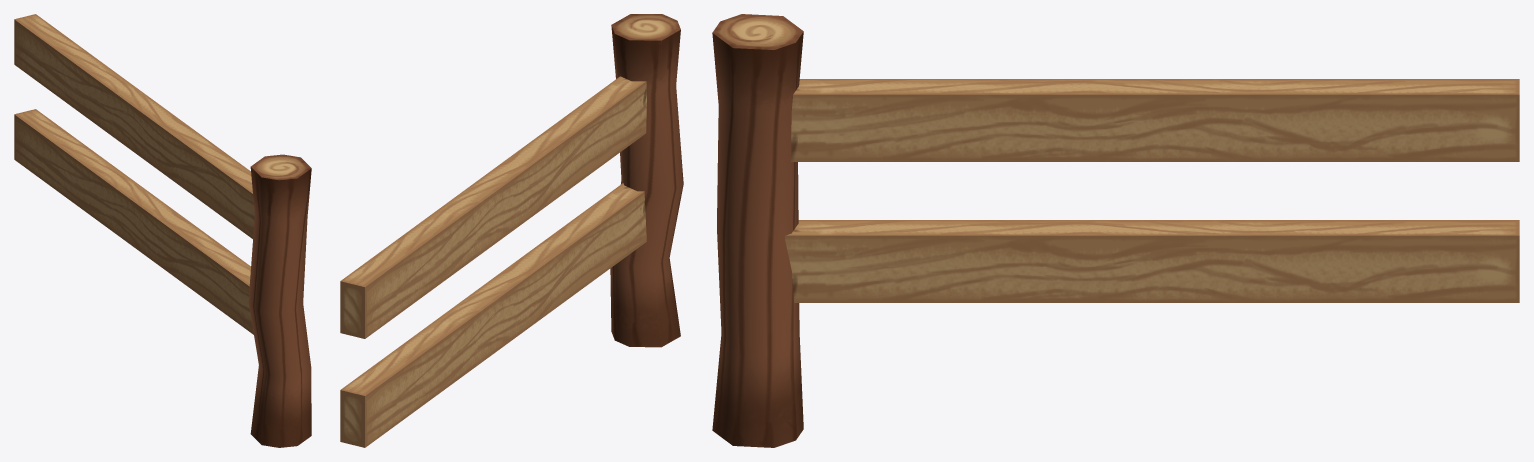
File: _Plank_005.fbx
3 renders of one model, left to right at view 1: azimuth 30°, elevation 25°; view 2: azimuth 150°, elevation 25°; view 3: azimuth 270°, elevation 25°, orthographic. The views are drawn at different scales.
Parts seen in each view (by area): view 1: _Plank_005; view 2: _Plank_005; view 3: _Plank_005.
Part boxes in pixels (x1=…): _Plank_005: x1=14, y1=14, x2=311, y2=447; _Plank_005: x1=340, y1=14, x2=683, y2=447; _Plank_005: x1=712, y1=14, x2=1519, y2=447.
Size of the model in its own units: 2.17 by 0.2482 by 1.18.
1 material, 1 textured.
